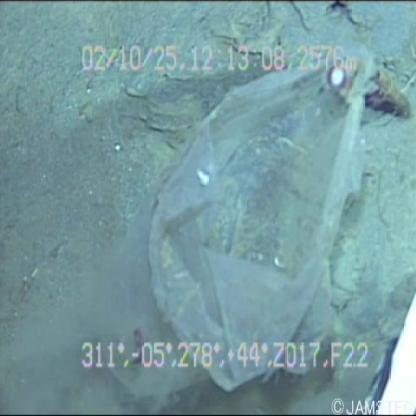Rác: (128, 29, 383, 399)
